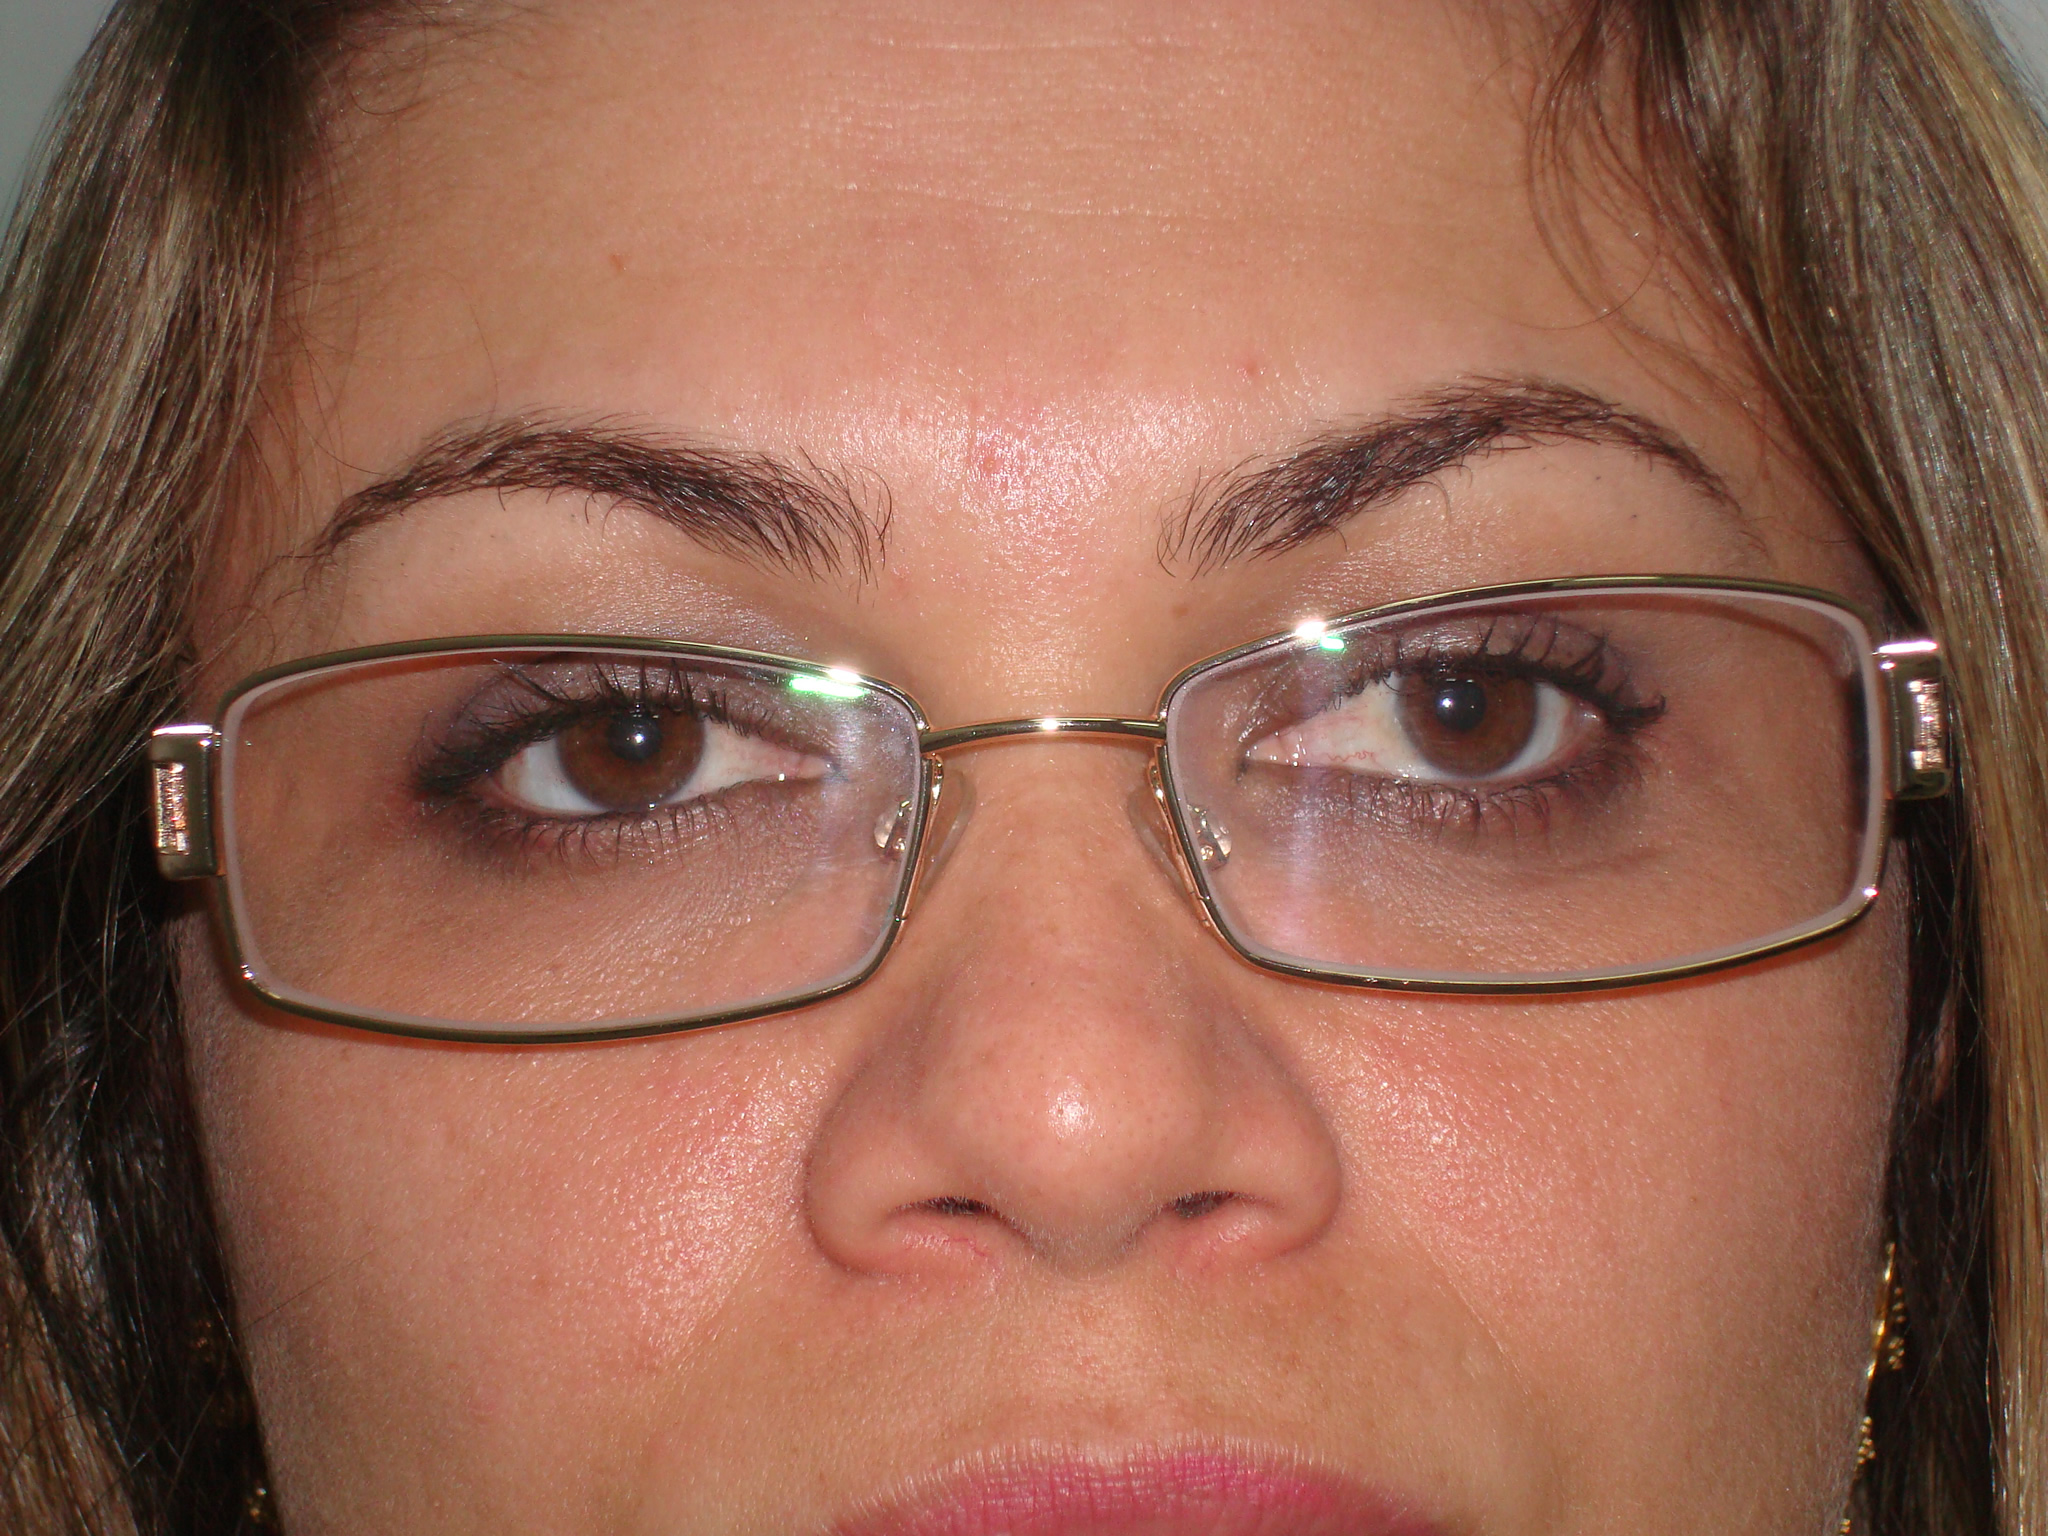flash: (1435, 692, 1458, 715), (629, 728, 648, 749)
limbo: (564, 666, 703, 800), (1397, 641, 1524, 766)
